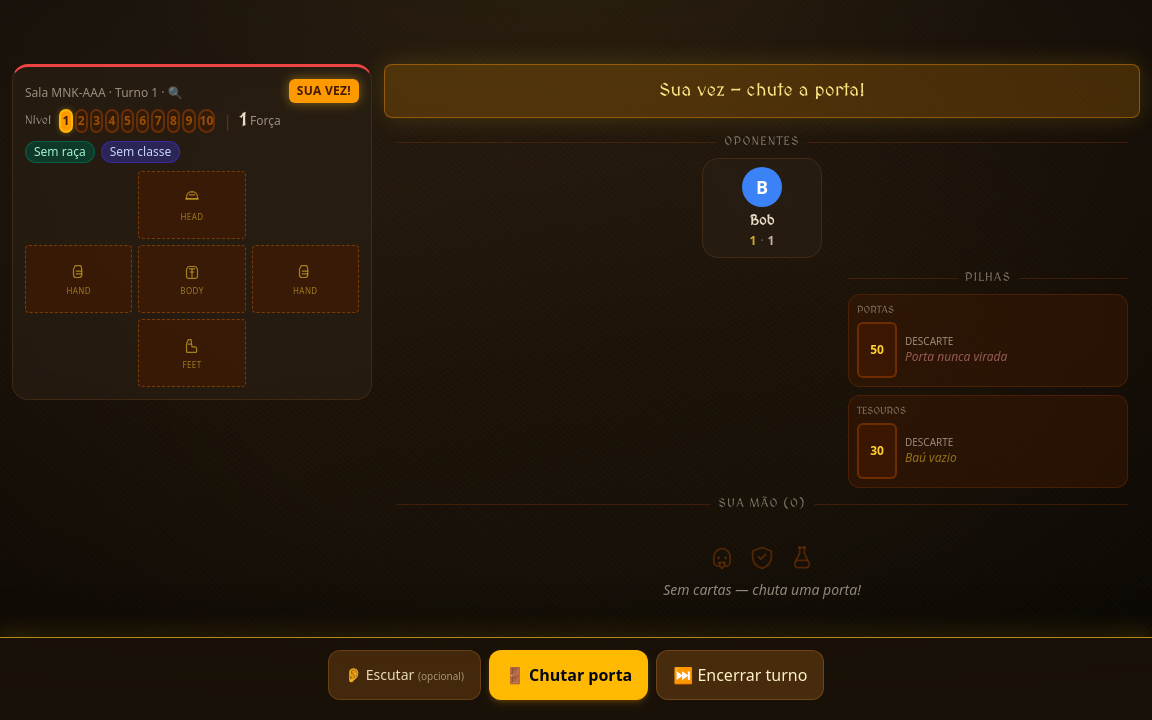
Scenario: PlayerView › the room-header crumb opens the modal with the current player
What coordinates should you click on to do the following:
click the button with aria-label "Ver seu set completo"
I would click on:
 (104, 93)
Its box is [25,85,183,101].
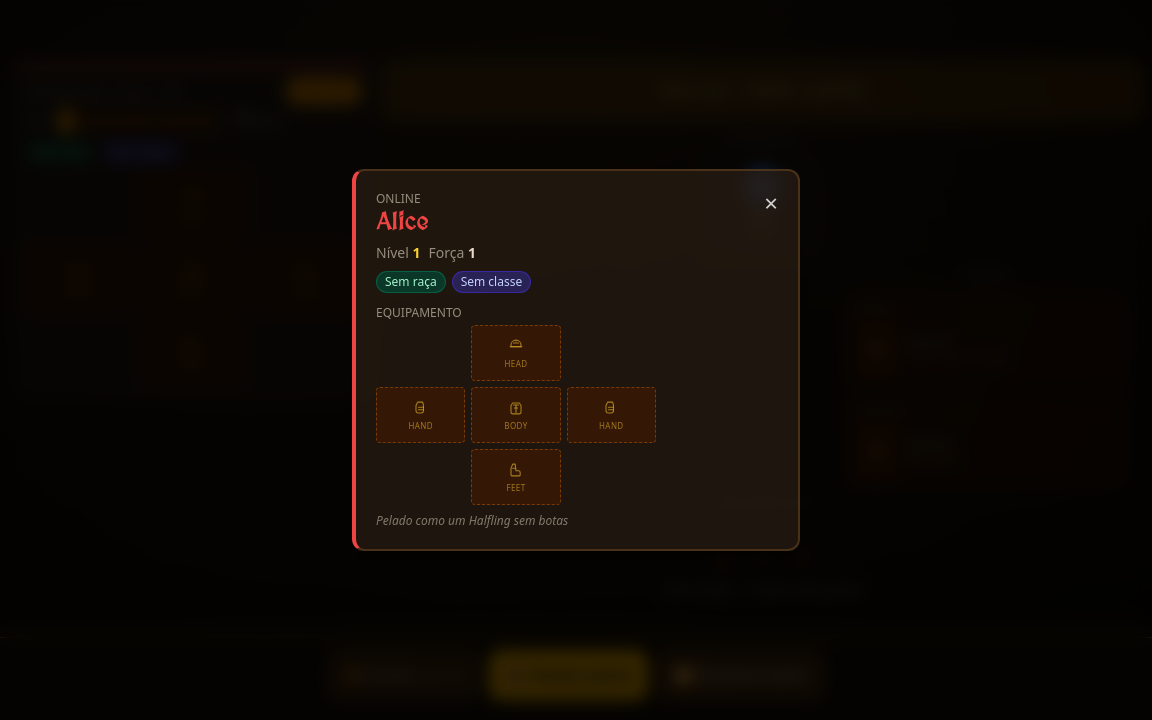
Check: the dialog with test id "player-detail-modal-p1" is shown
